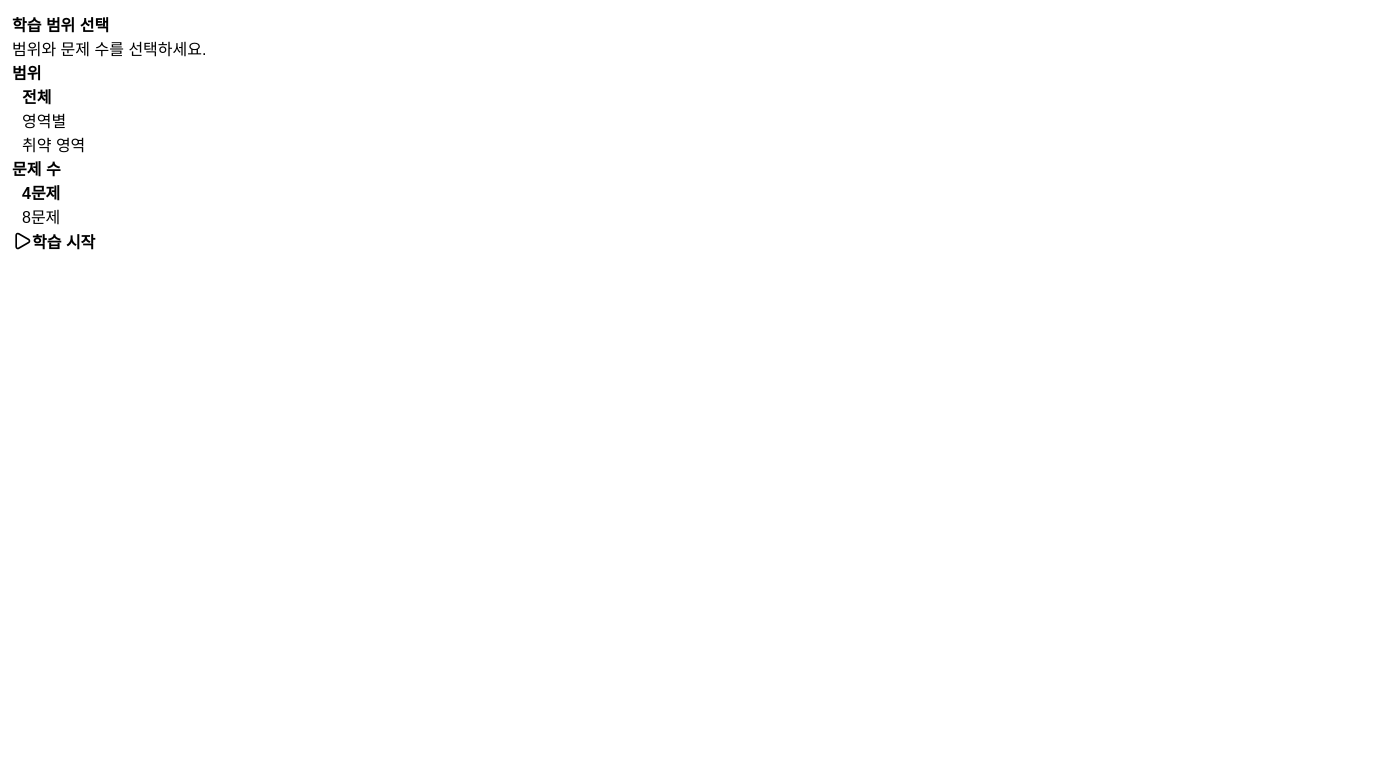
Scenario: 학습 시작 › 시작 성공 시 문제 화면(1/10·문제 본문·보기 텍스트)을 보인다
Step 1. Click the button "학습 시작" → click(54, 241), box [12, 228, 95, 254]
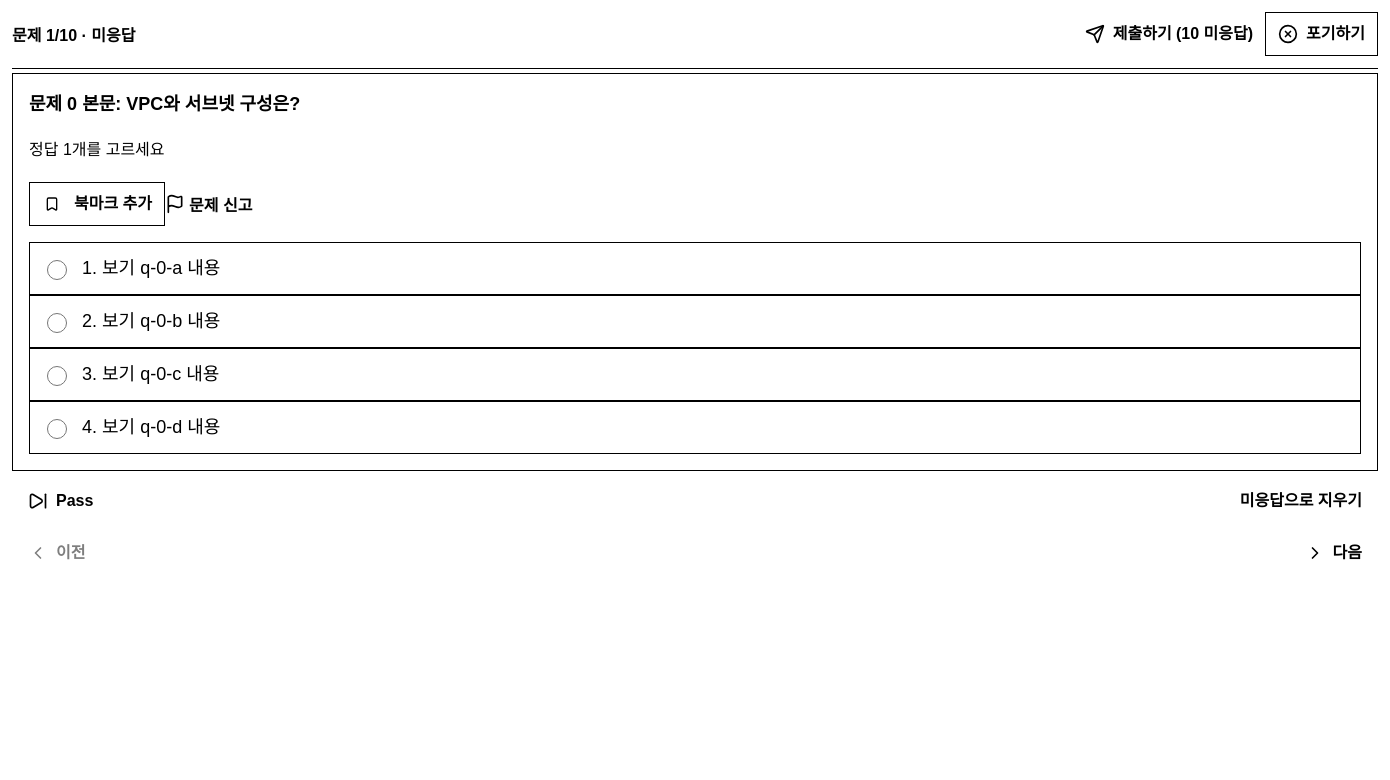
Expected: the text "문제 1/10 · 미응답" is shown, [12, 22, 136, 46]
Expected: the heading "문제 0 본문: VPC와 서브넷 구성은?" is shown, [29, 94, 300, 114]
Expected: the text "1. 보기 q-0-a 내용" is shown, [82, 258, 220, 278]
